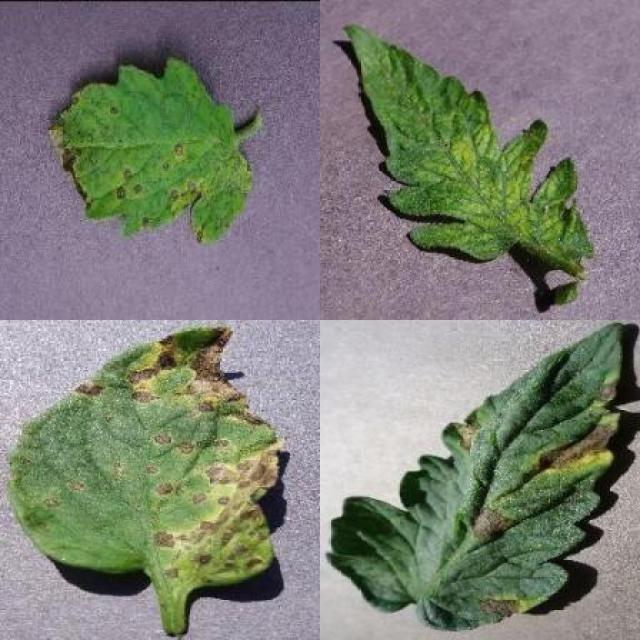Early Blight: (327, 322, 623, 634)
Mosaic Virus: (339, 23, 597, 277)
Septoria: (10, 326, 280, 590), (46, 56, 251, 240)
